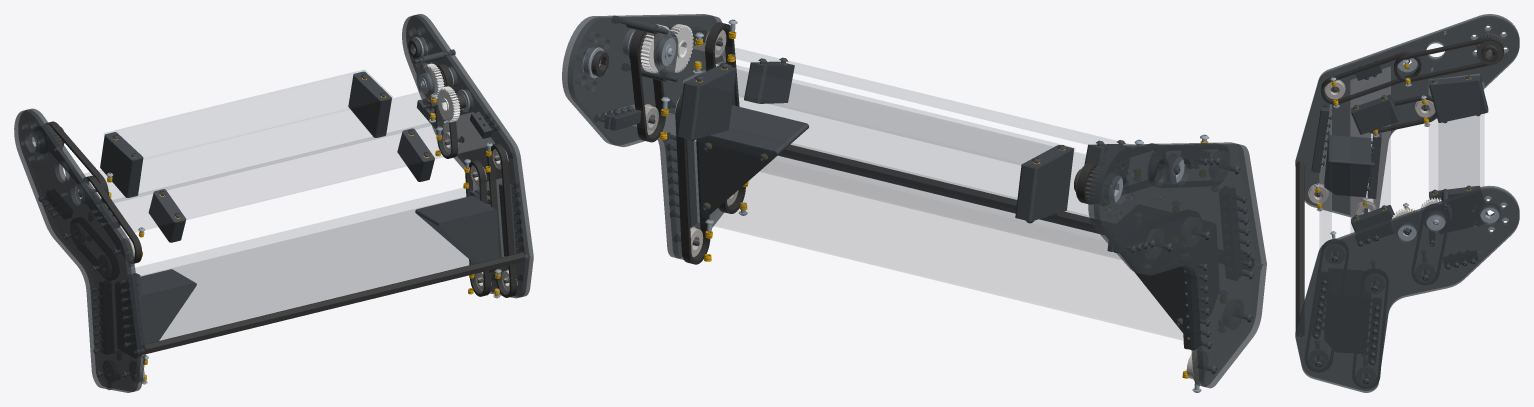
3 views of the same model, side by side, from view 1: azimuth 30°, elevation 25°; view 2: azimuth 150°, elevation 25°; view 3: azimuth 270°, elevation 25° (orthographic). The views are drawn at different scales.
Parts seen in each view (by area): view 1: Part 1, Inner endplate (×2), Outer Endplate (×2), Part 2, Part 3, Part 4, Part 11, Shaft, Part 6, Part 5, Part 10, Part 9 (+10 smaller); view 2: Part 2, Outer Endplate (×2), Inner endplate (×2), Part 1, Part 11, Part 4, Part 6, Part 3, Shaft, Part 9, Part 10, 85t 5mm Belt (+8 smaller); view 3: Inner endplate (×2), Outer Endplate (×2), Part 3, Part 11, Part 4, Part 5, Part 9, Shaft, WCP-0336 (Configurable) (×3), Part 1, Part 7, 74t 5mm Belt (+9 smaller).
Boxes of the visible parts, left/top/right/bottom form: Part 1: left=136, top=179, right=503, bottom=343; Inner endplate (×2): left=18, top=15, right=529, bottom=391; Outer Endplate (×2): left=14, top=14, right=533, bottom=392; Part 2: left=143, top=195, right=474, bottom=339; Part 3: left=112, top=113, right=494, bottom=234; Part 4: left=85, top=92, right=445, bottom=202; Part 11: left=104, top=70, right=392, bottom=158; Shaft: left=141, top=252, right=525, bottom=354; Part 6: left=415, top=196, right=499, bottom=272; Part 5: left=140, top=269, right=196, bottom=354; Part 10: left=348, top=71, right=391, bottom=137; Part 9: left=100, top=132, right=143, bottom=197; Part 2: left=694, top=139, right=1182, bottom=339; Outer Endplate (×2): left=562, top=14, right=1266, bottom=388; Inner endplate (×2): left=567, top=15, right=1260, bottom=386; Part 1: left=716, top=65, right=1120, bottom=259; Part 11: left=683, top=62, right=1074, bottom=164; Part 4: left=600, top=105, right=1104, bottom=240; Part 6: left=698, top=105, right=809, bottom=218; Part 3: left=693, top=41, right=1126, bottom=148; Shaft: left=778, top=144, right=1103, bottom=234; Part 9: left=1015, top=145, right=1073, bottom=221; Part 10: left=677, top=65, right=736, bottom=139; 85t 5mm Belt: left=675, top=93, right=710, bottom=264; Inner endplate (×2): left=1295, top=16, right=1519, bottom=390; Outer Endplate (×2): left=1295, top=14, right=1519, bottom=392; Part 3: left=1351, top=67, right=1390, bottom=232; Part 11: left=1429, top=74, right=1479, bottom=193; Part 4: left=1439, top=83, right=1483, bottom=189; Part 5: left=1324, top=135, right=1371, bottom=197; Part 9: left=1428, top=75, right=1488, bottom=122; Shaft: left=1295, top=161, right=1304, bottom=336; WCP-0336 (Configurable) (×3): left=1311, top=65, right=1381, bottom=198; Part 1: left=1320, top=105, right=1331, bottom=246; Part 7: left=1351, top=94, right=1399, bottom=134; 74t 5mm Belt: left=1394, top=37, right=1503, bottom=82.
Bounding box in the file's own units: 0.6241 × 0.3428 × 0.3335.
